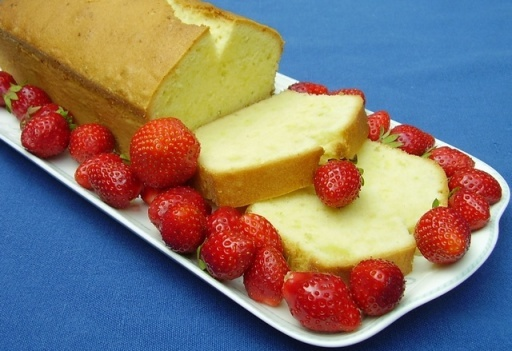background: (0, 0, 402, 183)
